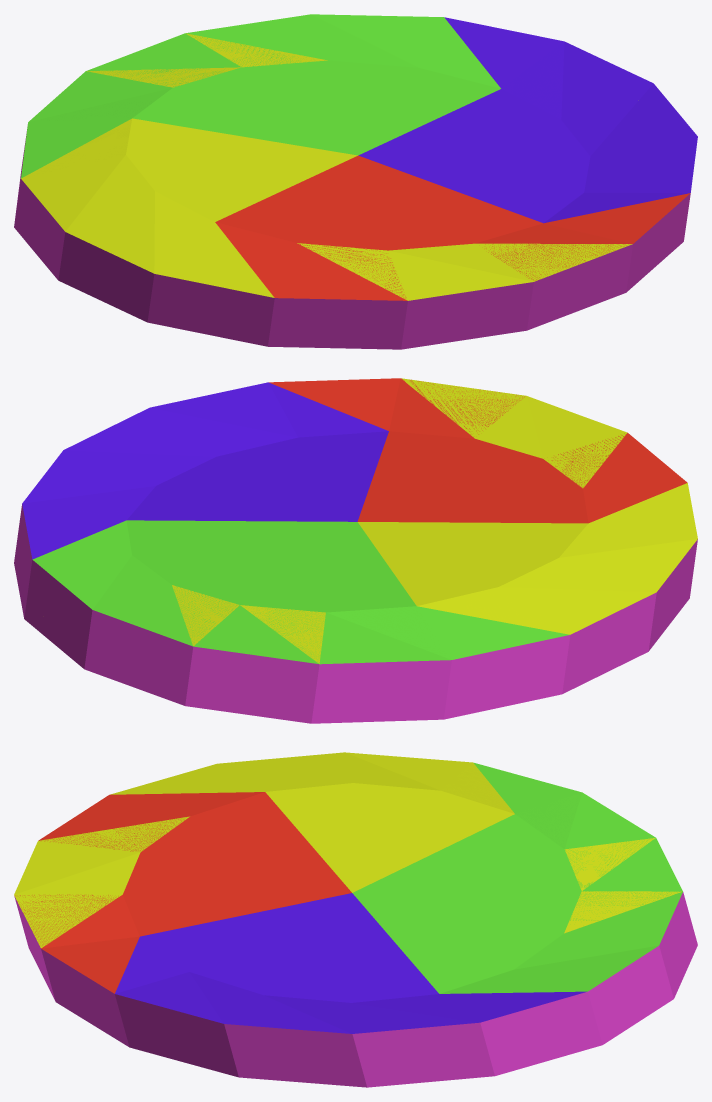
The model's file is elevator.fbx.
3 renders of one model, top to bottom at view 1: azimuth 30°, elevation 25°; view 2: azimuth 150°, elevation 25°; view 3: azimuth 270°, elevation 25°, orthographic. The views are drawn at different scales.
Visible parts, largest first — view 1: Circle; view 2: Circle; view 3: Circle.
Part boxes in pixels (x1,y1,x2,y2): Circle: (14, 14, 697, 349); Circle: (14, 378, 697, 723); Circle: (14, 752, 697, 1087).
Bounding box in the file's own units: 200 × 26.28 × 204.
